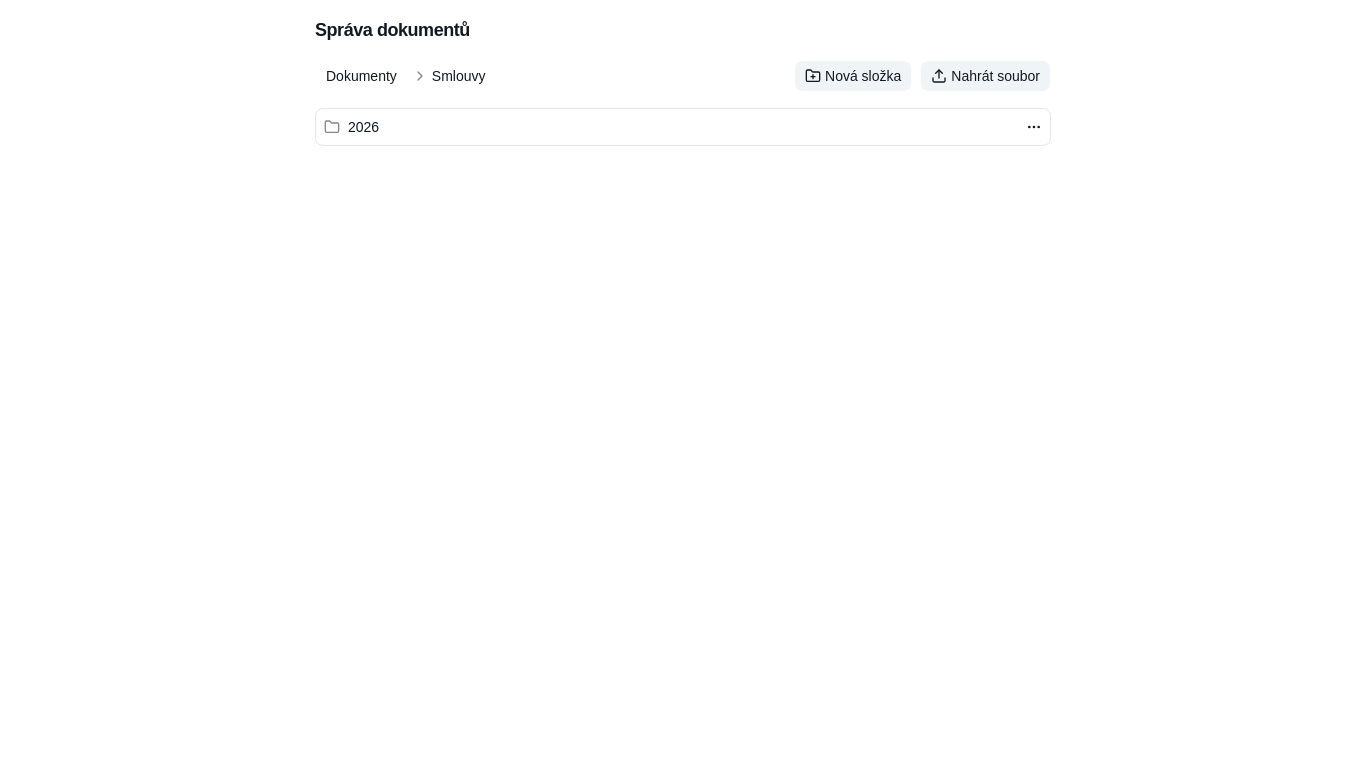
Scenario: FileBrowser permissions › shows structure actions only to a structure manager
Expected: the text "2026" is shown, left=348, top=117, right=379, bottom=137
Expected: the button "Nová složka" is shown, left=794, top=60, right=912, bottom=92
Click the button named "Akce položky". click: (1034, 127)
box: left=1018, top=111, right=1050, bottom=143
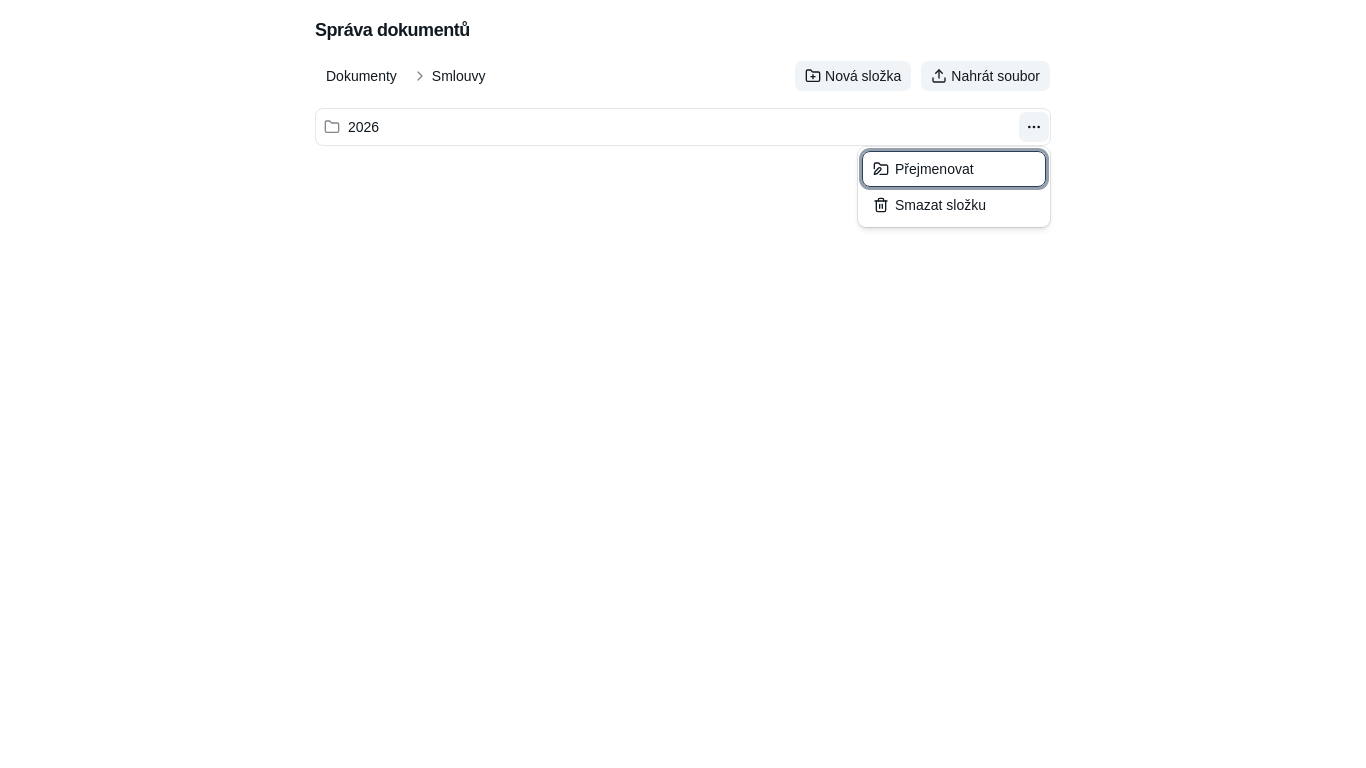
Expected: the menu item "Přejmenovat" is shown, left=862, top=151, right=1046, bottom=187
Expected: the menu item "Smazat složku" is shown, left=862, top=187, right=1046, bottom=223
